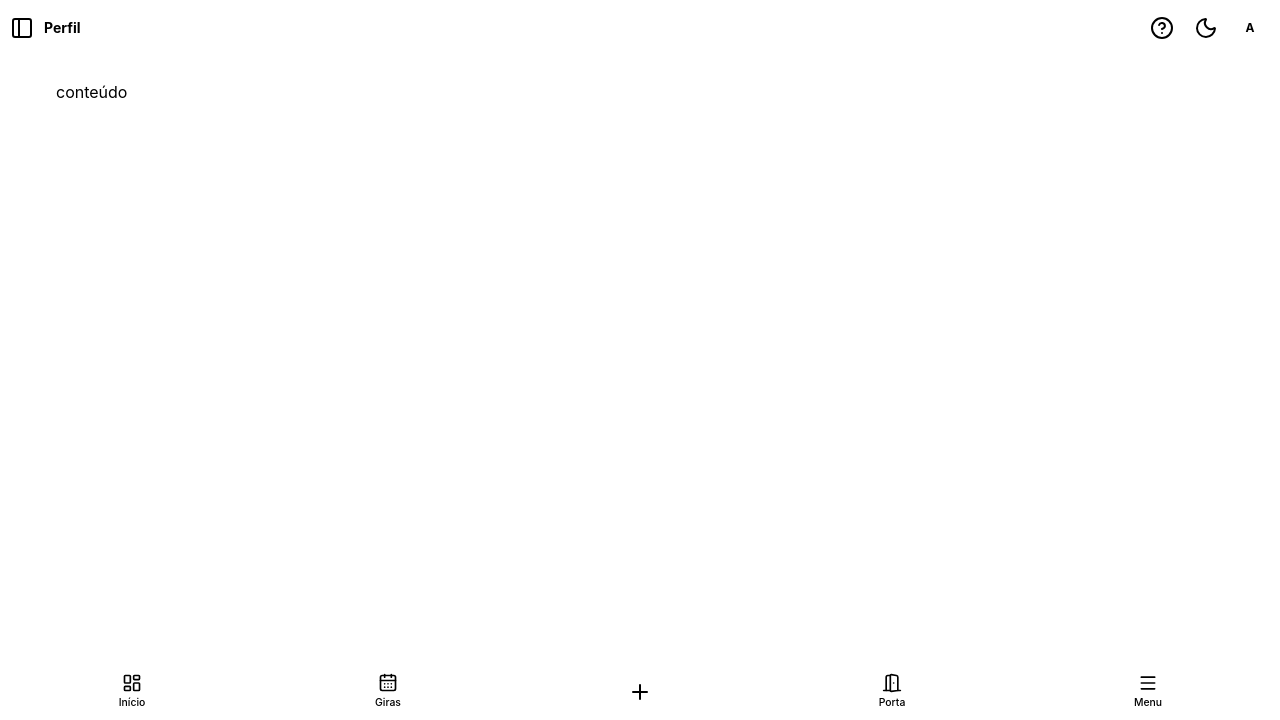
Test: Menu do painel — Trocar de terreiro › conta com outra senha abre o campo; senha errada mostra o erro e não sai da conta
Click the button with test id "topbar-user-menu" at (1250, 28), box [1232, 10, 1268, 46]
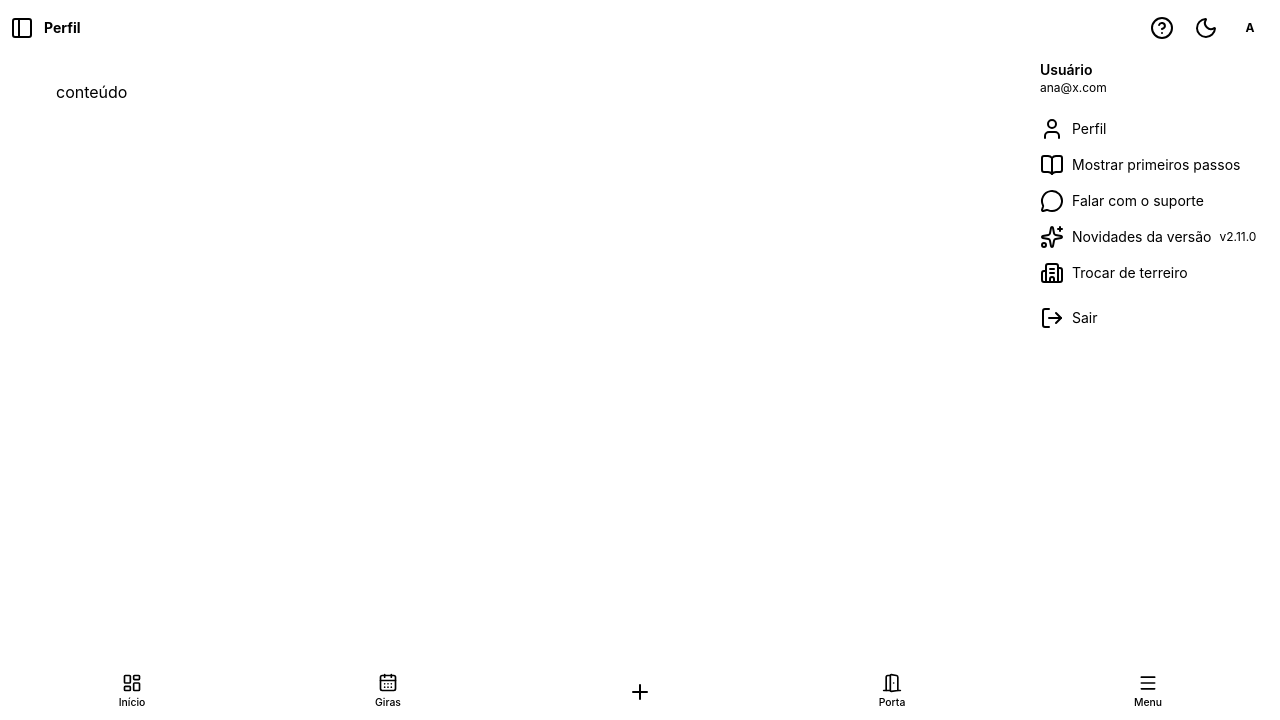
Expected: the menu item "Sair" is shown, [1040, 306, 1098, 330]
Click the menu item "Trocar de terreiro" at (1114, 273), box [1040, 261, 1188, 285]
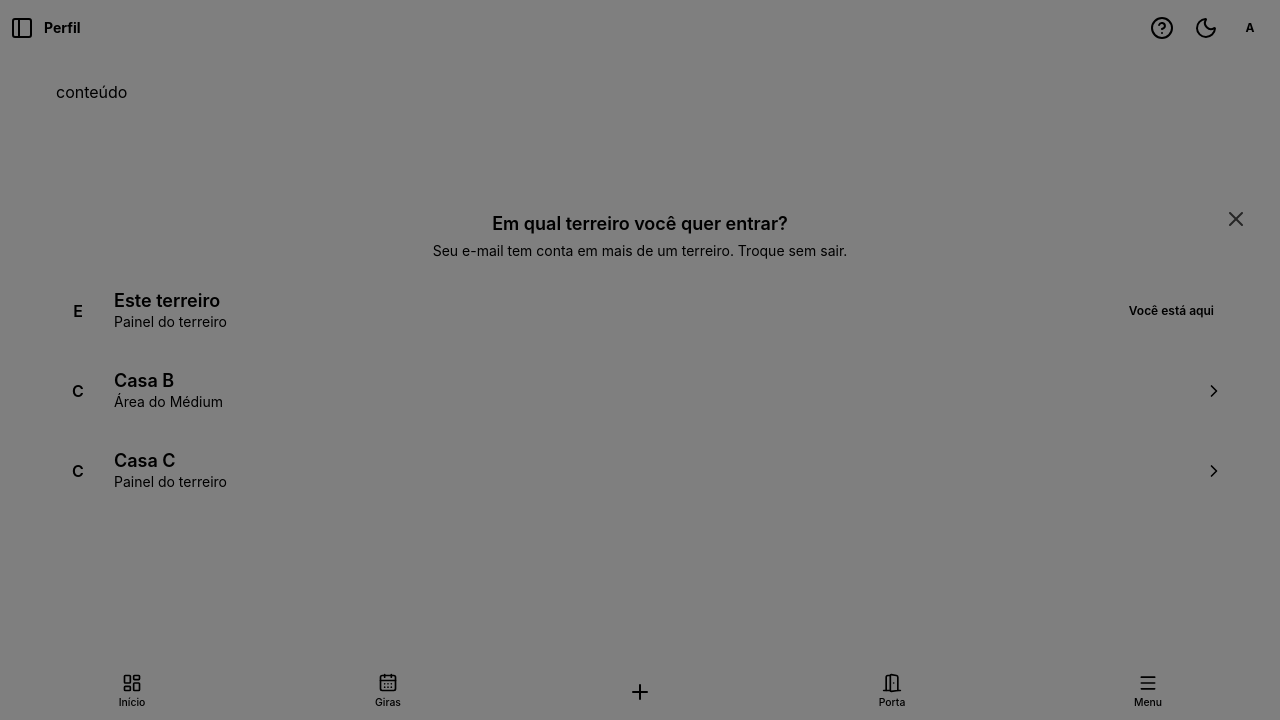
Click the button "C Casa C Painel do terreiro" at (145, 460), box [40, 437, 1240, 505]
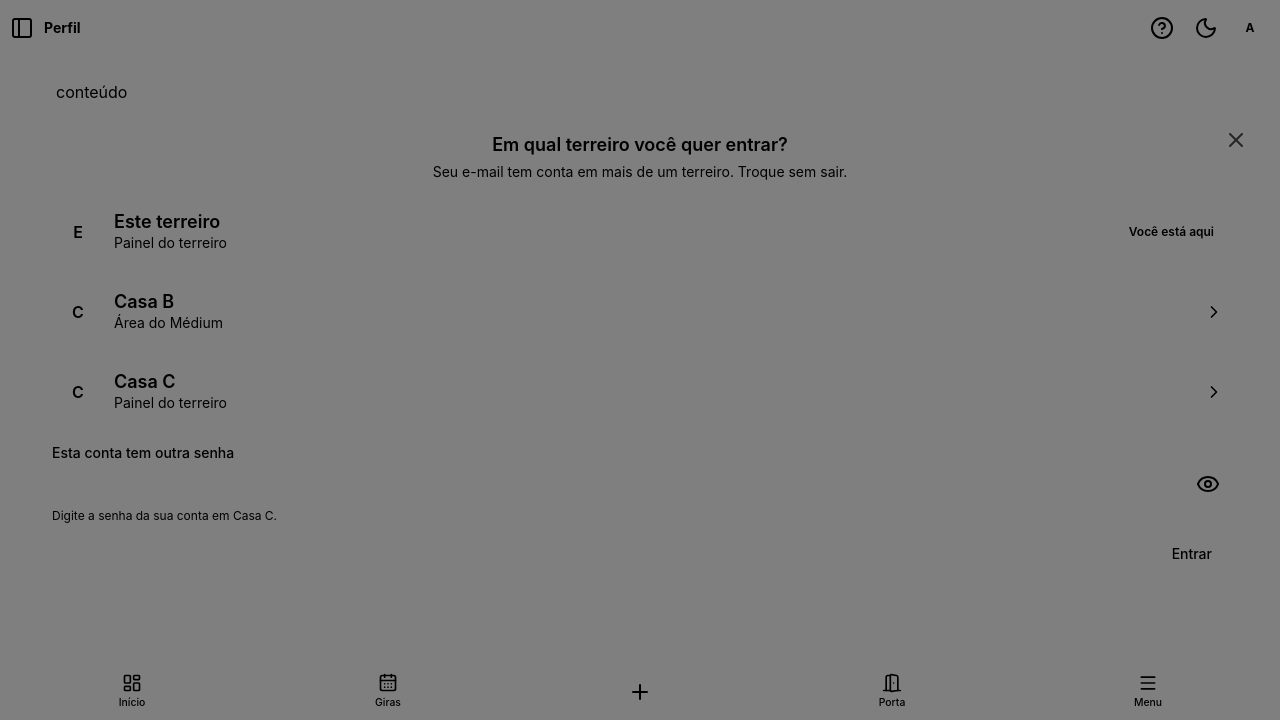
Type "senha-errada" into the password field labelled "Esta conta tem outra senha" at (640, 484), box [52, 466, 1228, 502]
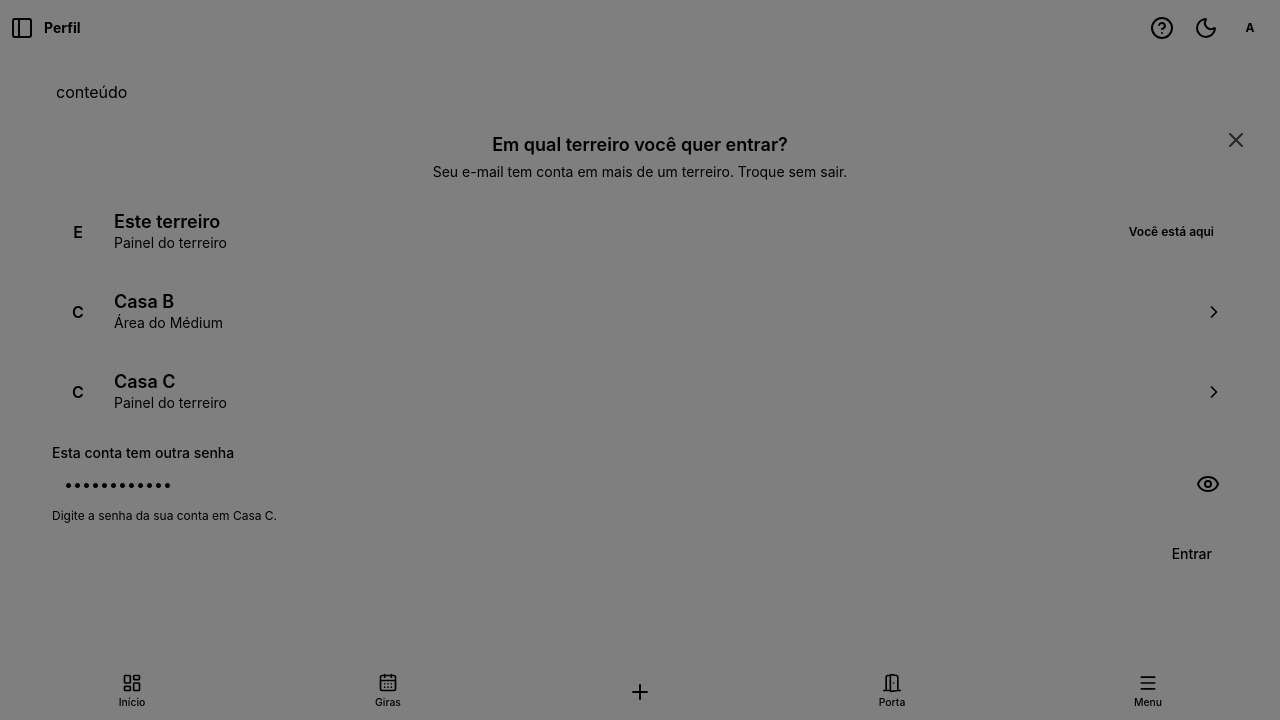
Click the button "Entrar" at (1192, 554), box [1156, 536, 1228, 572]
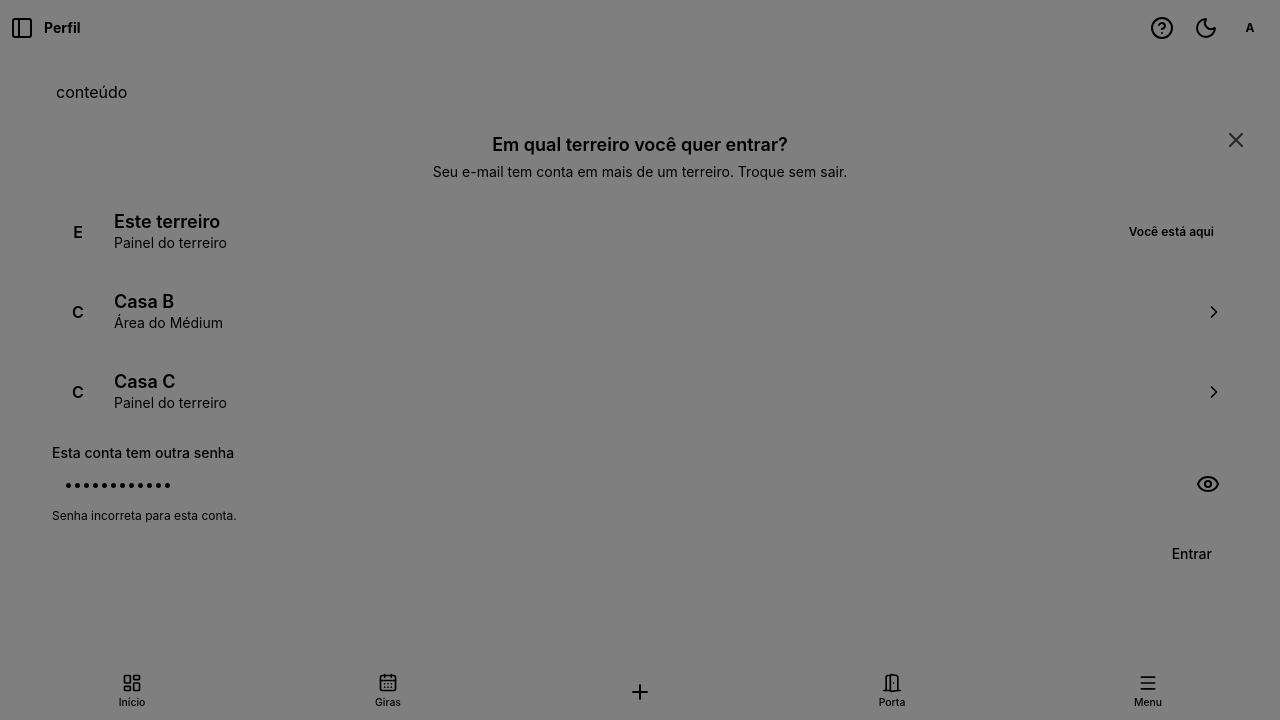
Expected: the text "Senha incorreta para esta conta." is shown, [52, 508, 237, 523]
